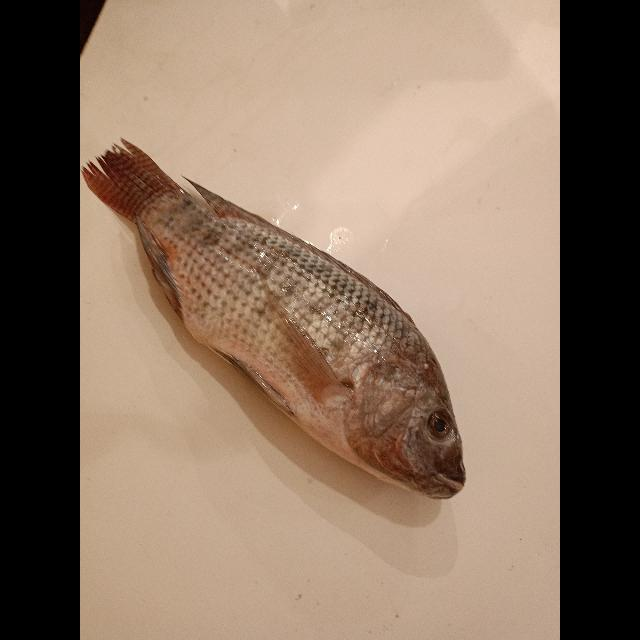Tilapia: (84, 138, 466, 498)
